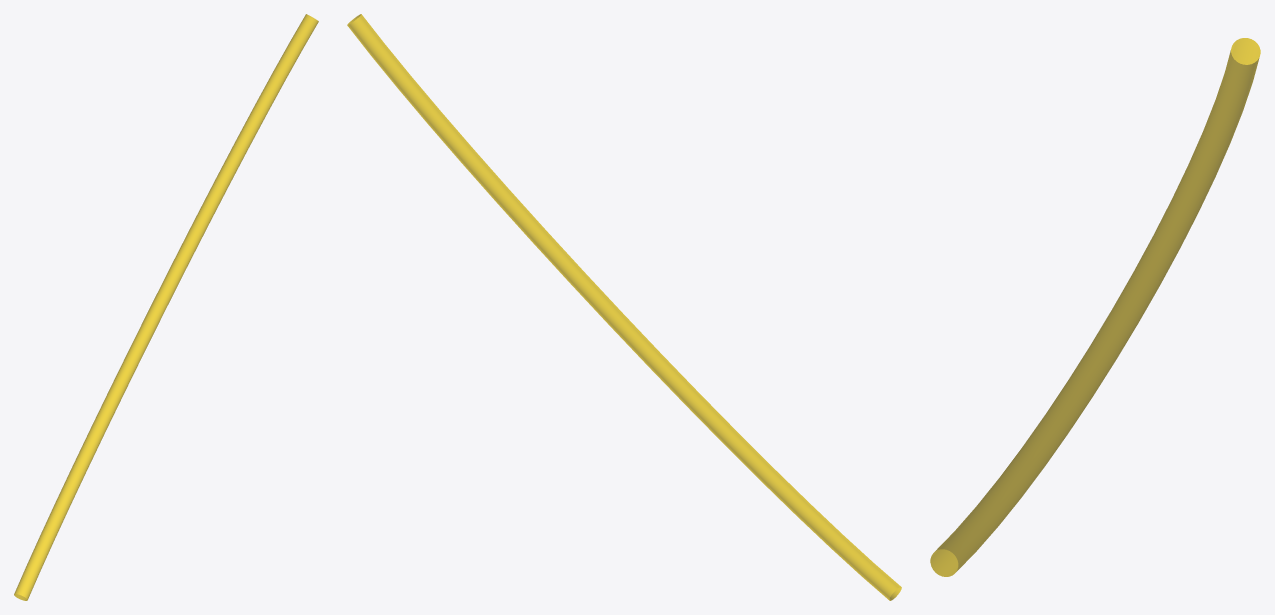
The model's file is Event_75125125_track_104.fbx.
3 views of the same model, side by side, from view 1: azimuth 30°, elevation 25°; view 2: azimuth 150°, elevation 25°; view 3: azimuth 270°, elevation 25° (orthographic). The views are drawn at different scales.
Parts seen in each view (by area): view 1: Model; view 2: Model; view 3: Model.
Part boxes in pixels (x1,y1,x2,y2): Model: (14, 14, 318, 600); Model: (347, 14, 901, 600); Model: (930, 38, 1260, 576).
Size of the model in its own units: 1.17 by 1.31 by 0.4422.
